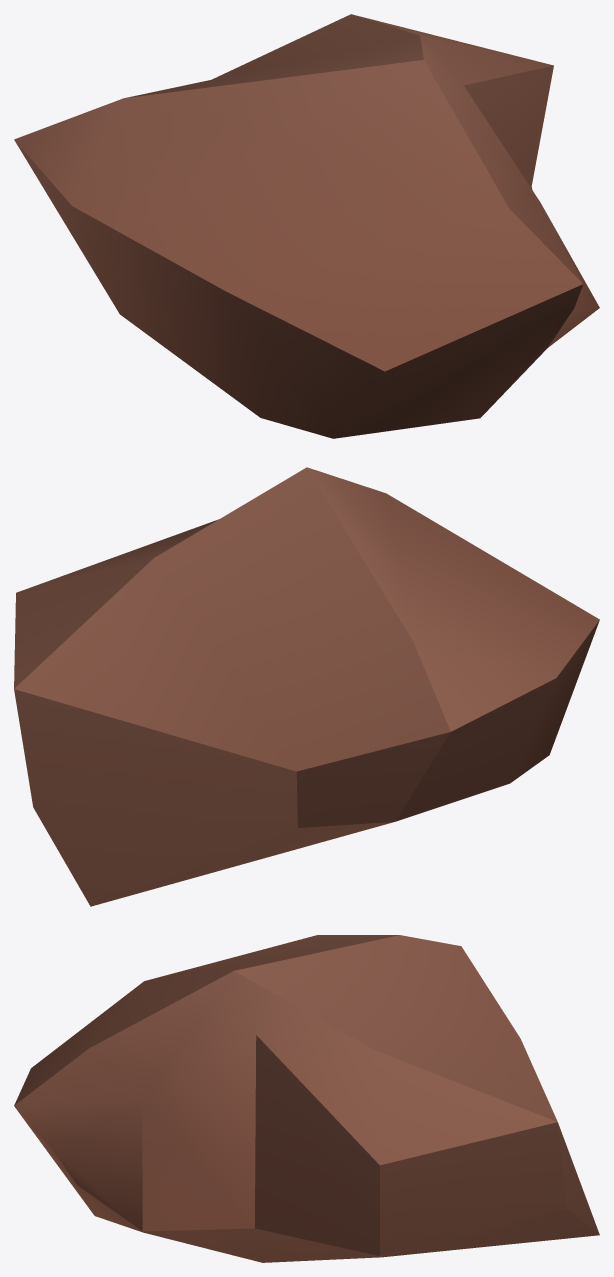
The model's file is Prop_stone_04.fbx.
3 renders of one model, top to bottom at view 1: azimuth 30°, elevation 25°; view 2: azimuth 150°, elevation 25°; view 3: azimuth 270°, elevation 25°, orthographic. The views are drawn at different scales.
Parts seen in each view (by area): view 1: Stone_4; view 2: Stone_4; view 3: Stone_4.
Part boxes in pixels (x1=…): Stone_4: x1=14, y1=14, x2=599, y2=438; Stone_4: x1=14, y1=467, x2=599, y2=906; Stone_4: x1=14, y1=935, x2=599, y2=1262.
Size of the model in its own units: 127 by 78.78 by 144.
